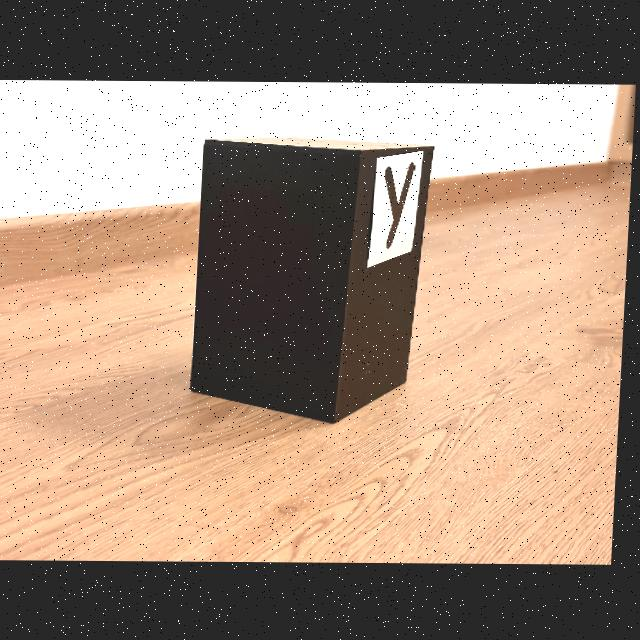Y: (388, 161, 416, 248)
